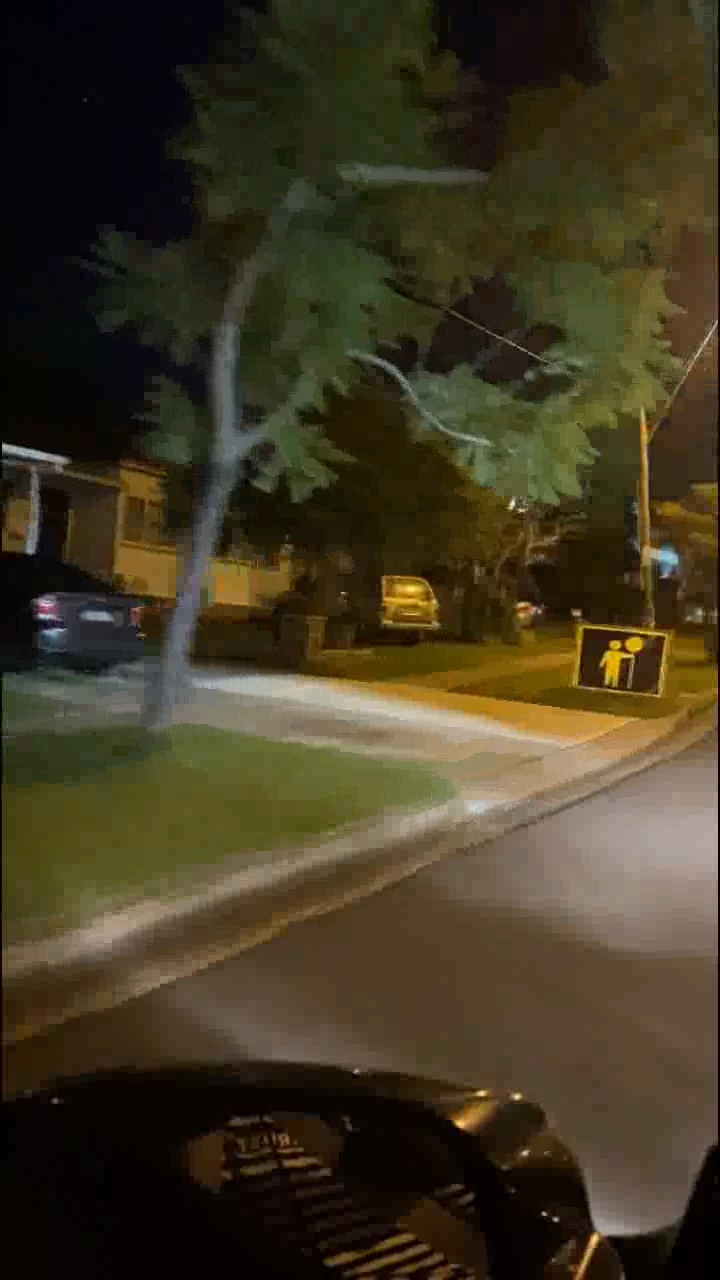prepare to stop board: (574, 626, 663, 691)
